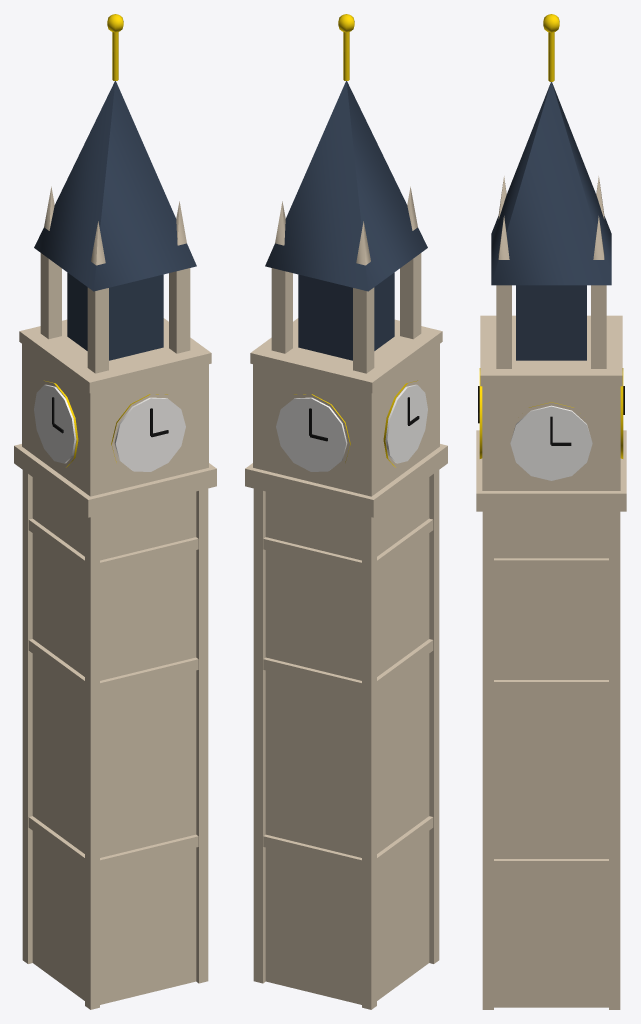
The model's file is united_kingdom.glb.
3 renders of one model, left to right at view 1: azimuth 30°, elevation 25°; view 2: azimuth 150°, elevation 25°; view 3: azimuth 270°, elevation 25°, orthographic.
Visible parts, largest first — view 1: TowerBody, MainSpire, ClockChamber, Buttress_2, Buttress_3, UpperBalcony, BelfryCore, Buttress_0, ClockBalconyBase, FaceNorth, FaceWest, Belt_2 (+5 smaller); view 2: TowerBody, MainSpire, ClockChamber, Buttress_0, Buttress_1, UpperBalcony, BelfryCore, Buttress_2, ClockBalconyBase, FaceSouth, FaceWest, Belt_2 (+5 smaller); view 3: TowerBody, MainSpire, ClockChamber, Buttress_1, Buttress_3, UpperBalcony, BelfryCore, FaceEast, ClockBalconyBase, Belt_2, Belt_0, Belt_1 (+2 smaller).
Boxes of the visible parts, box(x1,y1,x2,y2) form: TowerBody: box(32, 477, 196, 1004); MainSpire: box(34, 81, 196, 291); ClockChamber: box(22, 344, 208, 496); Buttress_2: box(85, 515, 99, 1009); Buttress_3: box(196, 488, 208, 983); UpperBalcony: box(19, 318, 211, 392); BelfryCore: box(67, 272, 163, 360); Buttress_0: box(22, 470, 32, 963); ClockBalconyBase: box(14, 444, 216, 517); FaceNorth: box(114, 397, 185, 471); FaceWest: box(34, 384, 76, 463); Belt_2: box(28, 518, 198, 573); TowerBody: box(265, 477, 429, 1004); MainSpire: box(265, 81, 427, 291); ClockChamber: box(253, 344, 439, 496); Buttress_0: box(362, 515, 376, 1009); Buttress_1: box(253, 488, 265, 983); UpperBalcony: box(250, 318, 442, 392); BelfryCore: box(298, 272, 394, 360); Buttress_2: box(429, 470, 439, 963); ClockBalconyBase: box(245, 444, 447, 517); FaceSouth: box(276, 397, 347, 471); FaceWest: box(385, 384, 427, 463); Belt_2: box(263, 518, 433, 573); TowerBody: box(494, 511, 608, 1007); MainSpire: box(491, 82, 611, 285); ClockChamber: box(482, 386, 620, 490); Buttress_1: box(609, 511, 620, 1009); Buttress_3: box(482, 511, 493, 1009); UpperBalcony: box(480, 315, 622, 386); BelfryCore: box(516, 285, 586, 360); FaceEast: box(510, 405, 592, 480); ClockBalconyBase: box(476, 430, 626, 511); Belt_2: box(494, 558, 608, 571); Belt_0: box(494, 859, 608, 871); Belt_1: box(494, 680, 608, 692).
Size of the model in its own units: 1.9 by 13.49 by 1.9.
